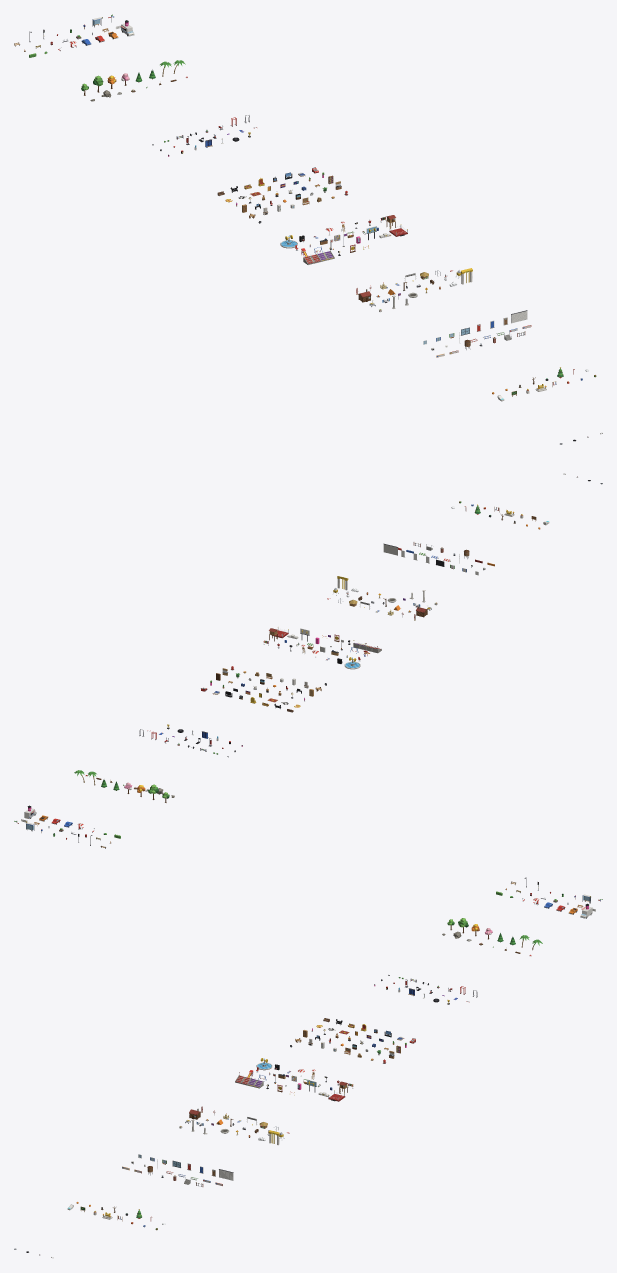
Rendered from MogLife_AllProps.fbx.
The picture shows the model from 3 angles, top to bottom: view 1: azimuth 30°, elevation 25°; view 2: azimuth 150°, elevation 25°; view 3: azimuth 330°, elevation 25°; orthographic projection. The views are drawn at different scales.
Size of the model in its own units: 131 by 20.51 by 1124.
1 material, 1 textured.
